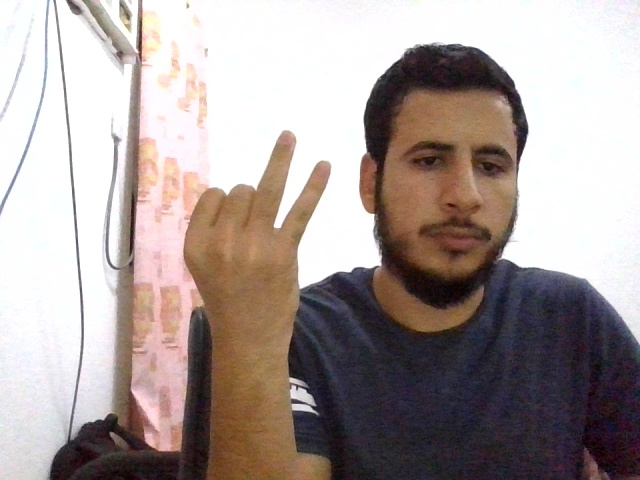Two: (182, 130, 330, 338)
